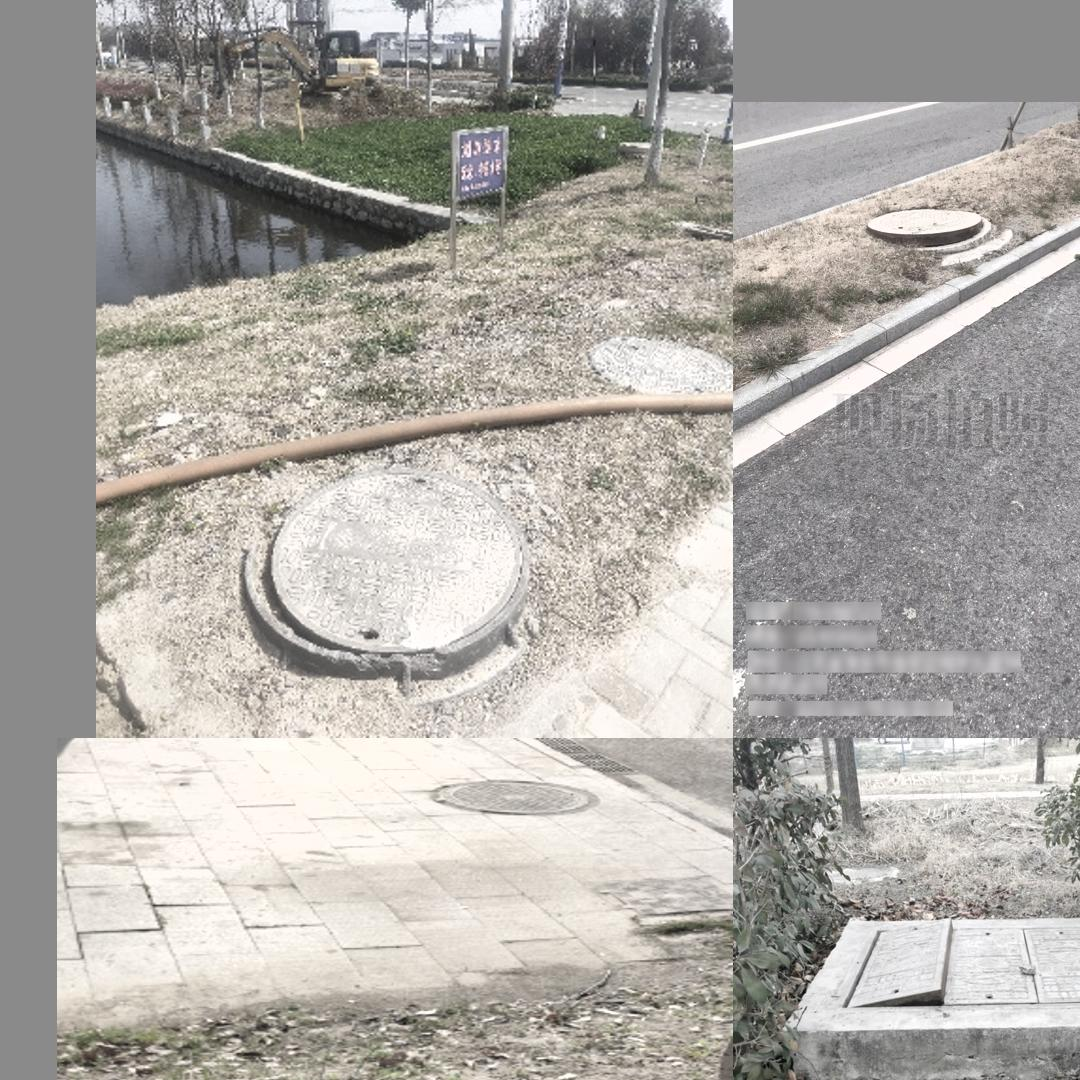good: (584, 336, 731, 396)
uncovered: (238, 463, 533, 681), (828, 902, 1080, 1020), (865, 207, 989, 251)
